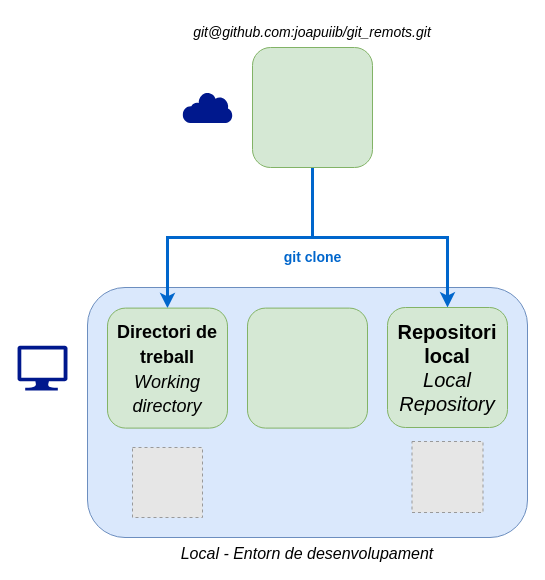
Some shapes in this 545 by 580 pixel diagram are drawn without their labels. Grey dashed boxes stand in for pictures. Here are the shapes that lost their labels. From the top down, the box of each, then its label:
(252, 46, 372, 168): Repositori Remot Remote Repository
(246, 307, 368, 428): Àrea de preparació Staging Area
